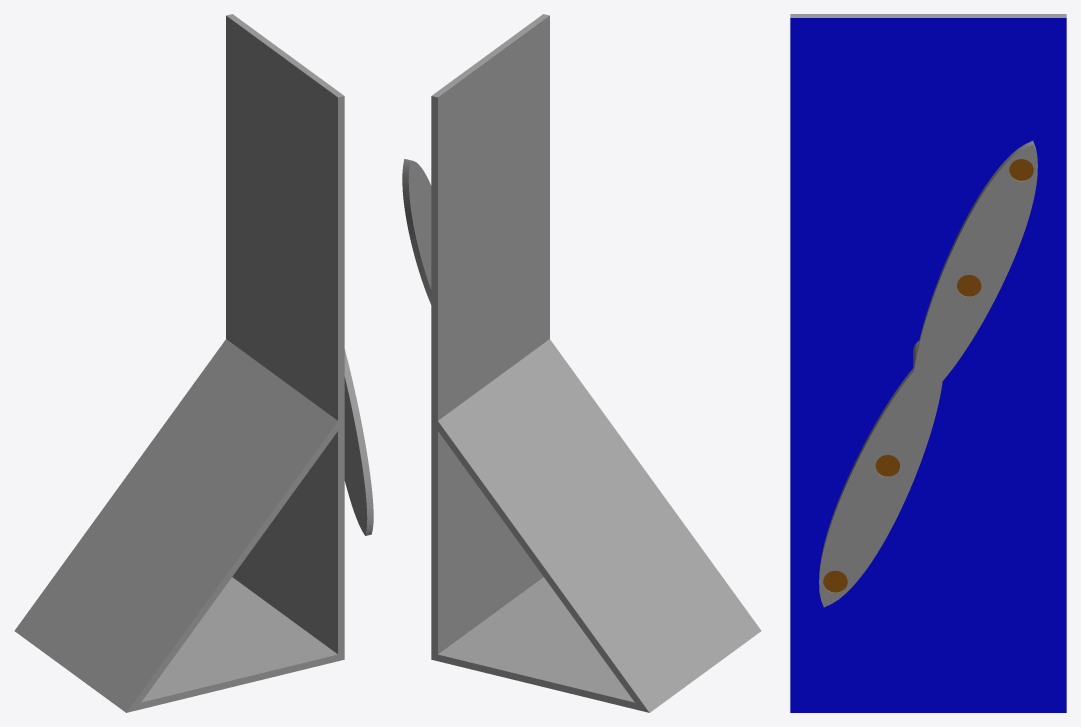
File: M4-Rad.dae
3 renders of one model, left to right at view 1: azimuth 30°, elevation 25°; view 2: azimuth 150°, elevation 25°; view 3: azimuth 270°, elevation 25°, orthographic. The views are drawn at different scales.
Parts seen in each view (by area): view 1: ID2; view 2: ID2; view 3: ID2.
Boxes of the visible parts, box(x1,y1,x2,y2) form: ID2: box(14, 14, 373, 712); ID2: box(402, 14, 761, 712); ID2: box(790, 14, 1066, 712).
Size of the model in its own units: 1.2 by 0.9 by 2.5.
